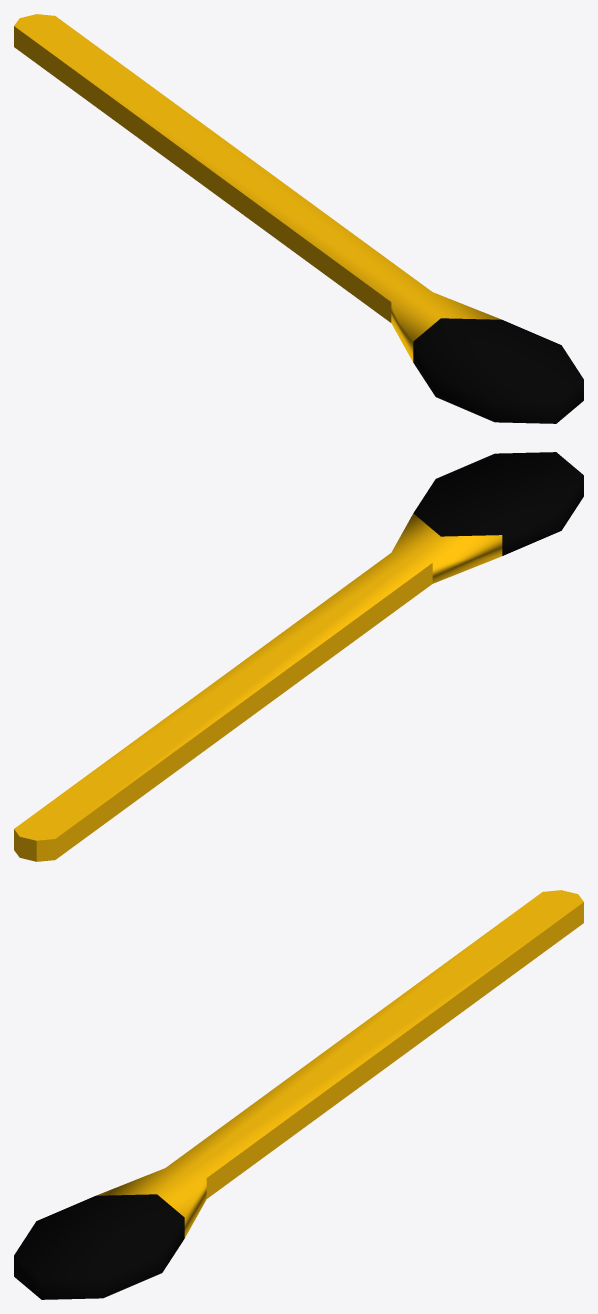
Rendered from spoon_09_origin_gt_1.dae.
3 views of the same model, one above another, from view 1: azimuth 30°, elevation 25°; view 2: azimuth 150°, elevation 25°; view 3: azimuth 330°, elevation 25° (orthographic).
Visible parts, largest first — view 1: group_0 (×3); view 2: group_0 (×3); view 3: group_0 (×3).
Part boxes in pixels (box(x1,y1,x2,y2)): group_0 (×3): box(14, 14, 583, 423); group_0 (×3): box(14, 452, 583, 861); group_0 (×3): box(14, 890, 583, 1299).
Bounding box in the file's own units: 1.54 × 11.19 × 0.2467.
